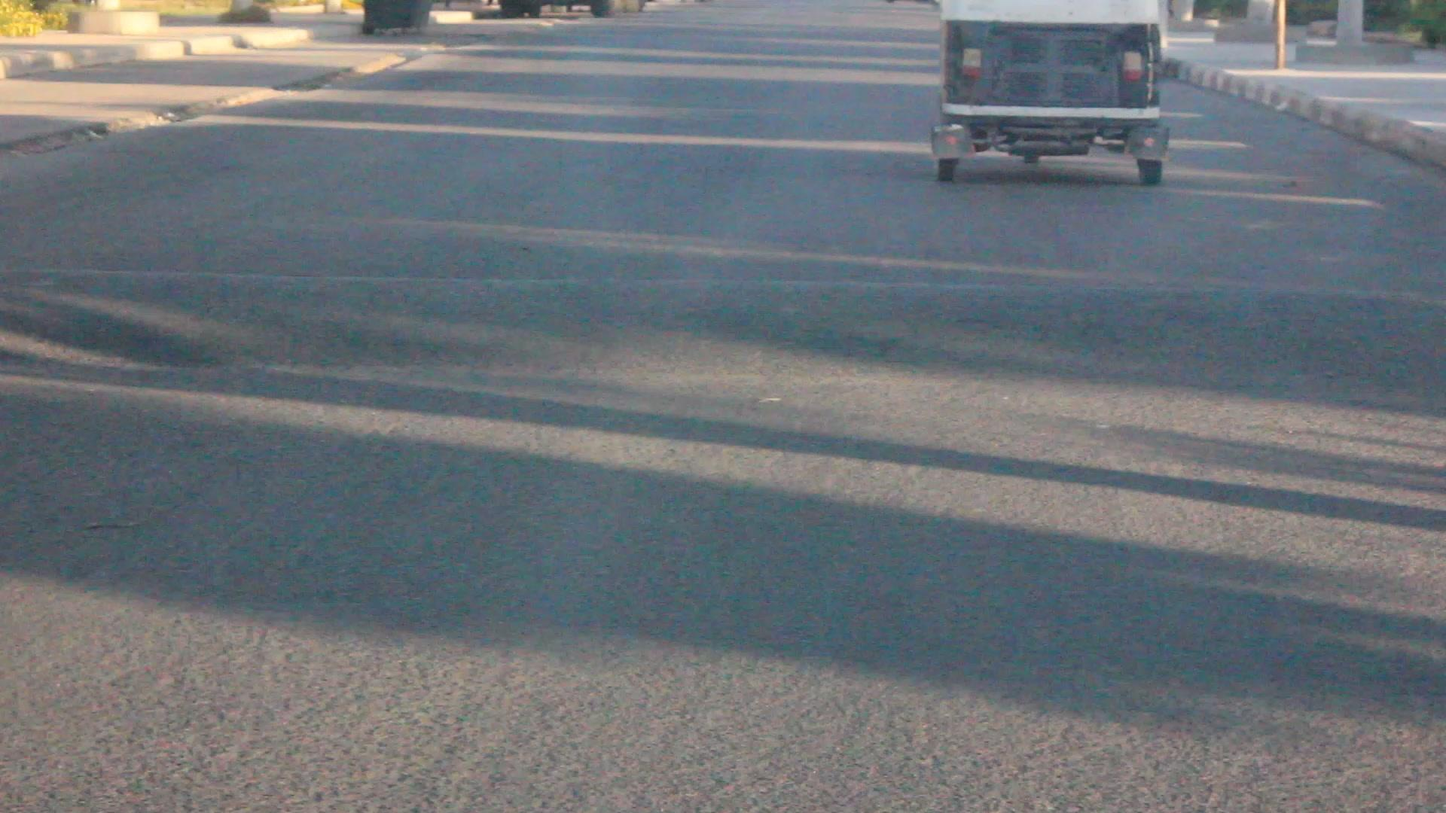Bump: (19, 248, 1446, 373)
